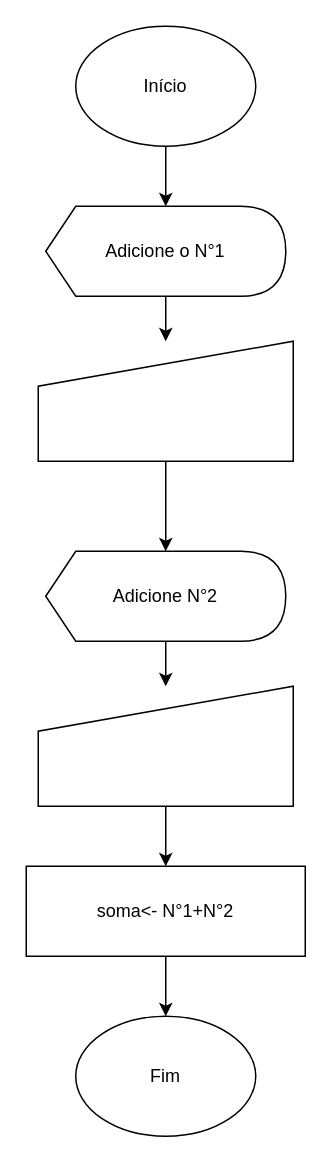
The diagram is 332 pixels wide and 1163 high, and some of its shapes have lost their labels. The centre of each missing label's shape, as x and y in pixels:
"N°1" goes at (x=165, y=400).
"N°2" goes at (x=165, y=745).
